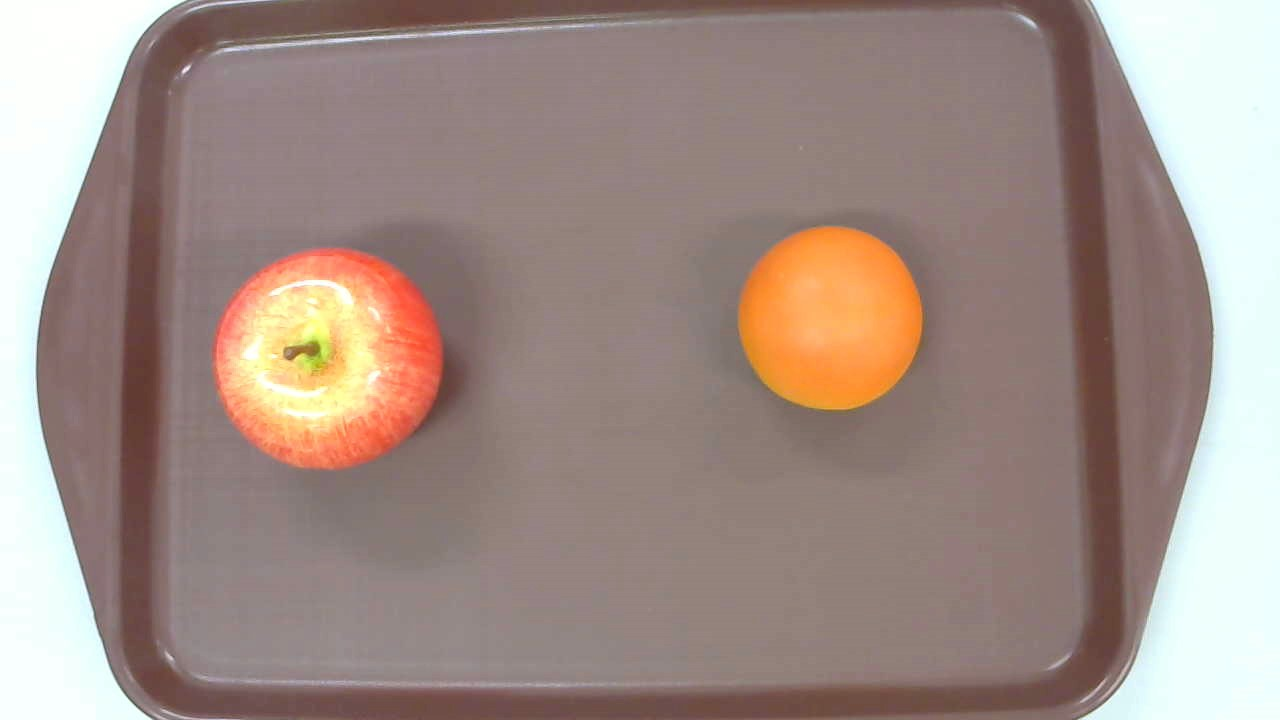bun: (737, 225, 923, 411)
red apple: (212, 247, 443, 469)
